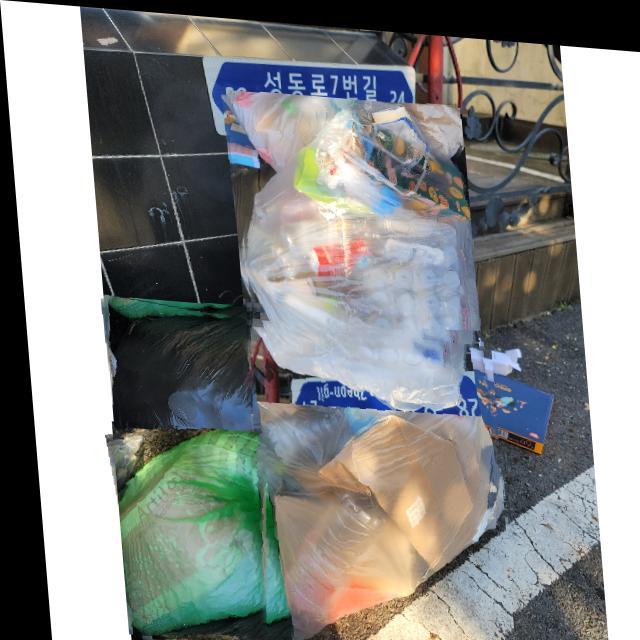general_trashbag: (111, 427, 260, 635)
other_trashbag: (233, 331, 495, 640), (241, 94, 477, 400), (107, 313, 249, 452)
